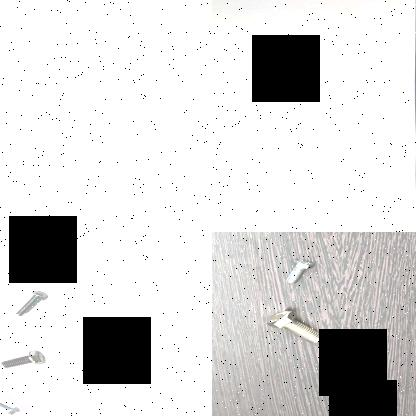Bolts: (258, 306, 330, 343), (11, 287, 48, 323), (0, 350, 50, 372), (278, 258, 320, 284), (0, 391, 24, 416)
